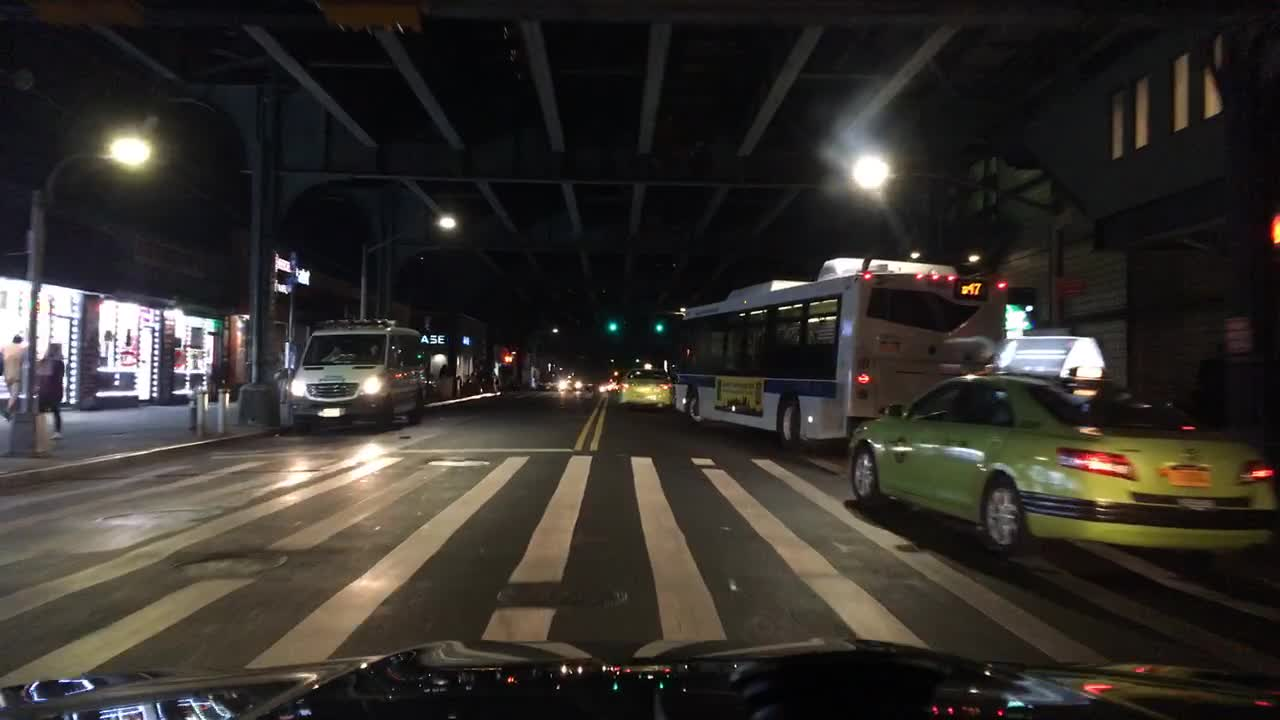bus: (671, 256, 1010, 448)
car: (848, 331, 1278, 576), (284, 314, 430, 436), (615, 360, 672, 409), (561, 374, 584, 391), (599, 376, 620, 394), (533, 374, 559, 387)
person: (36, 339, 73, 439), (0, 330, 26, 420), (436, 361, 448, 379)
traffic light: (652, 318, 665, 335), (607, 317, 620, 333)
traffic sign: (1223, 315, 1252, 352), (1057, 277, 1086, 294)
